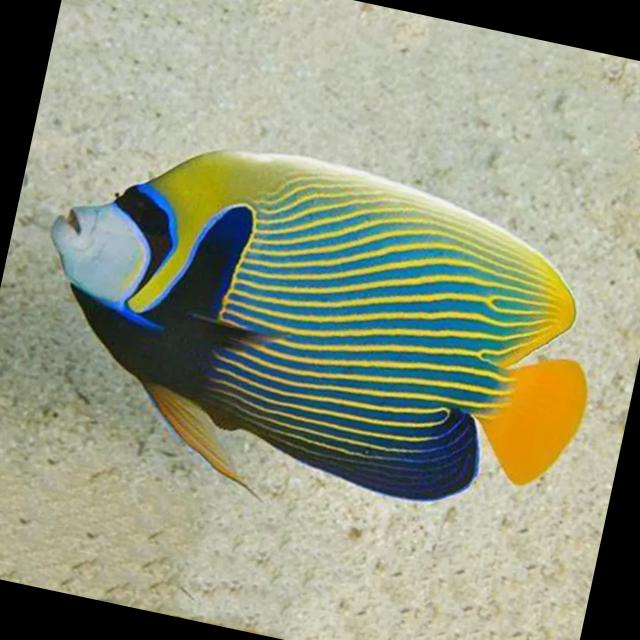AngelFish: (7, 108, 621, 550)
